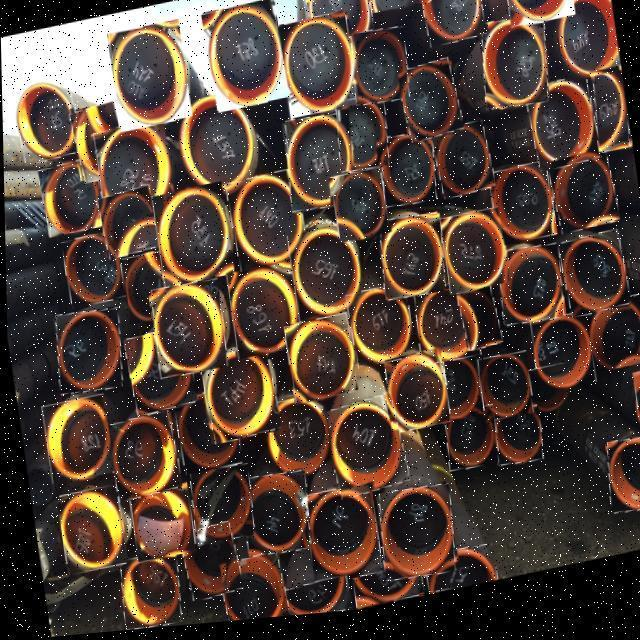pipe: (201, 2, 289, 116), (320, 400, 407, 505), (108, 24, 191, 134), (173, 94, 257, 201), (92, 121, 175, 227), (278, 16, 360, 123), (151, 186, 233, 290), (225, 173, 307, 277), (197, 349, 278, 448), (285, 229, 364, 327), (301, 489, 379, 587), (523, 85, 600, 182), (149, 282, 225, 380), (224, 267, 301, 363), (377, 492, 453, 588), (284, 118, 356, 217), (103, 413, 180, 503), (121, 328, 195, 418), (282, 319, 356, 409), (9, 76, 82, 166), (39, 395, 112, 484), (260, 398, 332, 487), (54, 486, 125, 576), (557, 241, 629, 328), (546, 158, 618, 244), (343, 288, 414, 375), (481, 26, 548, 118), (553, 0, 620, 92), (171, 391, 241, 478), (438, 216, 507, 302), (487, 170, 556, 255), (241, 476, 308, 561), (395, 66, 462, 150), (54, 310, 120, 395), (379, 220, 444, 306), (69, 101, 136, 184), (412, 289, 478, 373), (37, 158, 105, 238), (528, 322, 594, 403), (383, 358, 448, 440), (497, 254, 562, 335), (176, 524, 240, 605), (127, 486, 193, 564), (188, 468, 252, 547), (430, 128, 494, 207), (215, 556, 287, 625), (60, 232, 124, 309), (96, 188, 160, 261), (120, 251, 181, 326), (118, 555, 178, 631), (329, 174, 389, 249), (351, 34, 408, 112), (583, 306, 640, 383), (379, 140, 434, 214), (335, 102, 388, 178), (475, 361, 530, 431), (419, 0, 486, 55), (430, 362, 482, 430), (441, 413, 495, 478), (305, 0, 374, 50), (423, 553, 495, 600), (350, 570, 421, 615), (592, 77, 628, 163), (455, 293, 501, 359), (275, 581, 348, 621), (491, 415, 540, 474), (605, 449, 640, 523), (522, 372, 568, 424), (507, 0, 574, 35), (368, 0, 431, 20), (630, 382, 640, 442)
